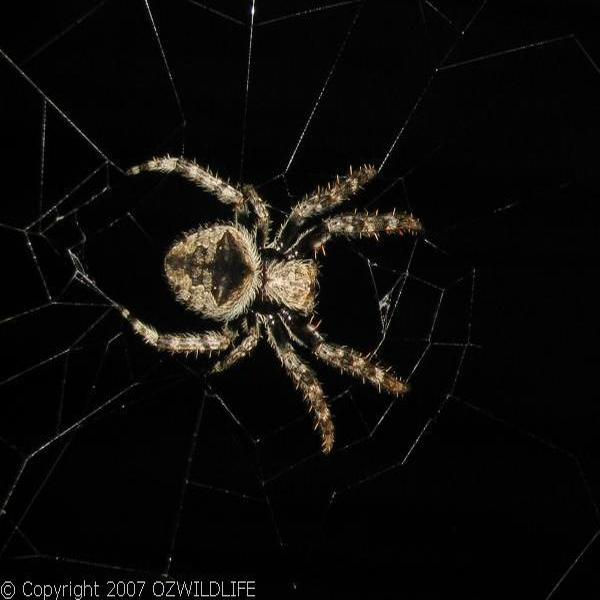Garden Orb Weaver Spider: (110, 154, 413, 438)
